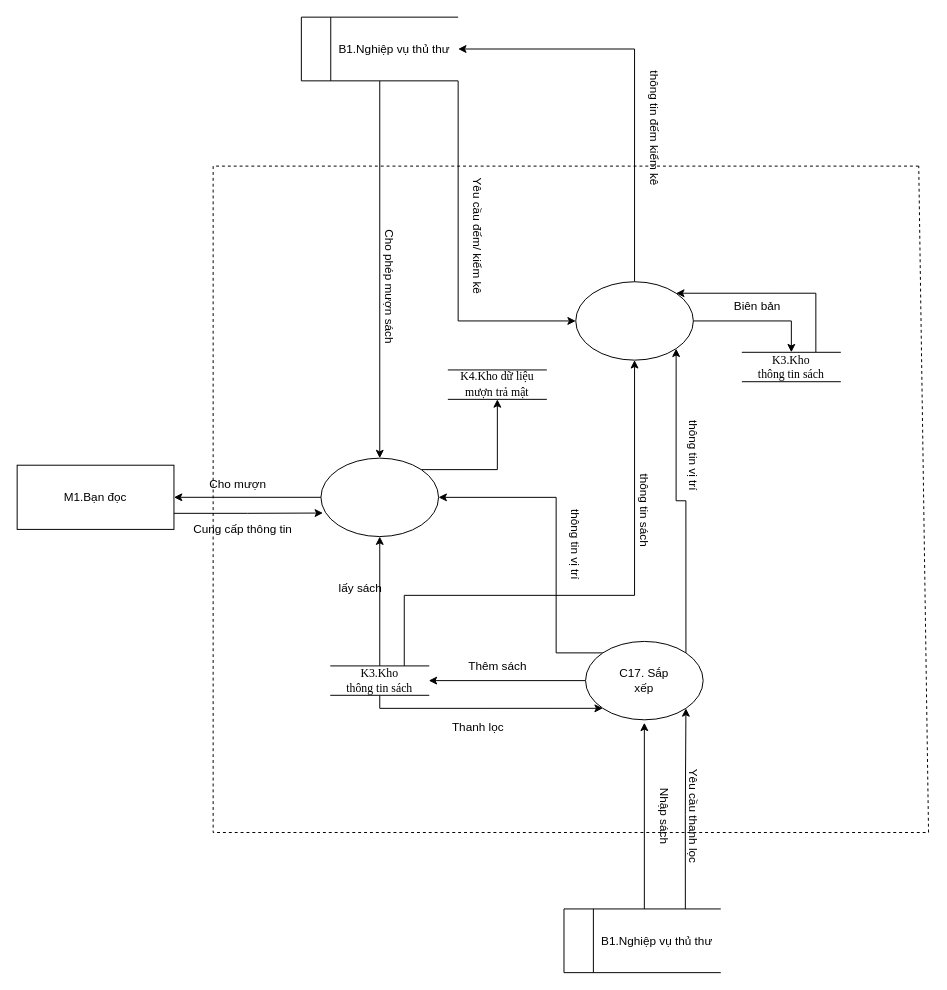
The diagram is 947 pixels wide and 990 high, and some of its shapes have lost their labels. The centre of each missing label's shape, as x and y in pixels:
C08. Cho mượn sách mật: pixel 379 497
C12. Đếm kiểm kê: pixel 634 320
